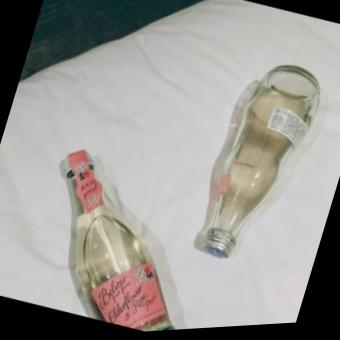glass: (12, 134, 224, 339), (180, 42, 332, 281)
